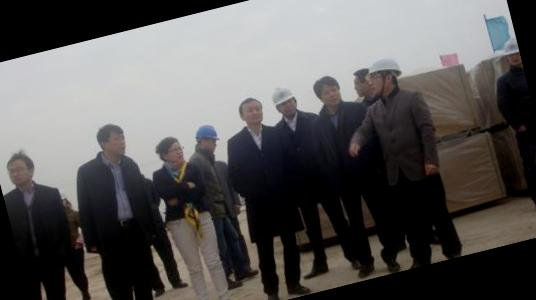no_helmet: (91, 117, 132, 162), (0, 146, 41, 191), (150, 132, 189, 173), (308, 70, 345, 110), (234, 93, 270, 132), (347, 65, 379, 104)
